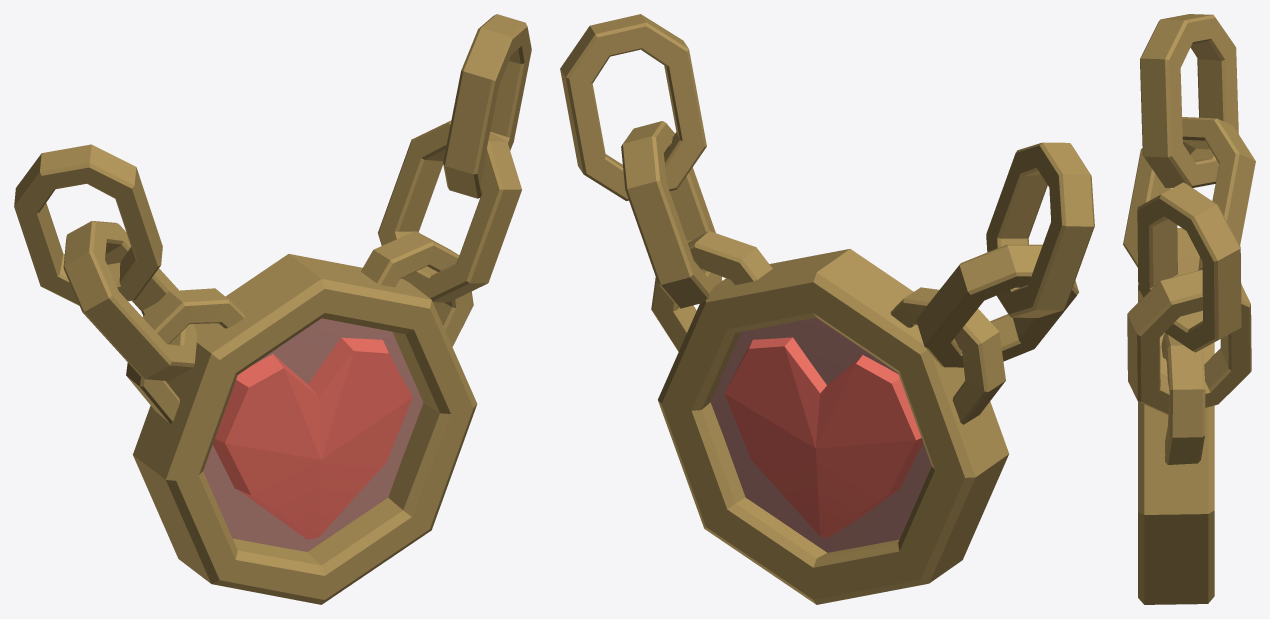
The model's file is amuletHealth.fbx.
3 views of the same model, side by side, from view 1: azimuth 30°, elevation 25°; view 2: azimuth 150°, elevation 25°; view 3: azimuth 270°, elevation 25° (orthographic). The views are drawn at different scales.
Parts seen in each view (by area): view 1: amuletHealth; view 2: amuletHealth; view 3: amuletHealth.
Part boxes in pixels (bbox=[...]): amuletHealth: bbox=[14, 14, 531, 604]; amuletHealth: bbox=[560, 14, 1094, 604]; amuletHealth: bbox=[1123, 14, 1255, 604].
Size of the model in its own units: 1.79 by 1.71 by 0.4106.
1 material, 1 textured.
